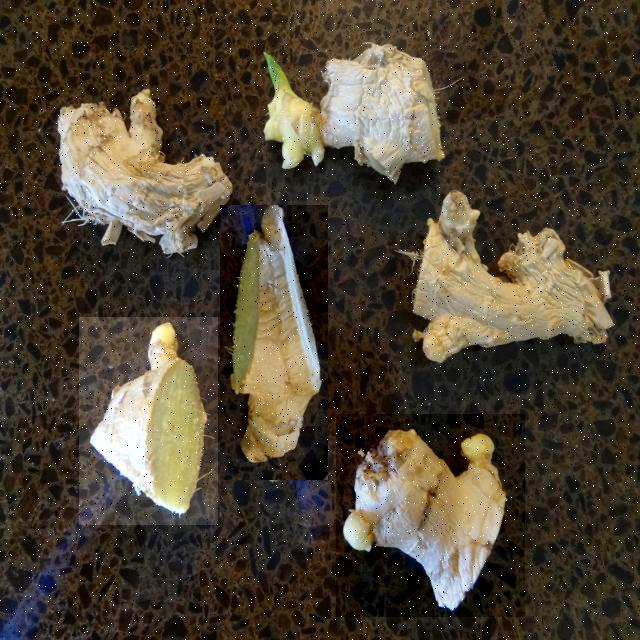ginger: (336, 414, 525, 617), (220, 205, 328, 480), (79, 318, 218, 526)
